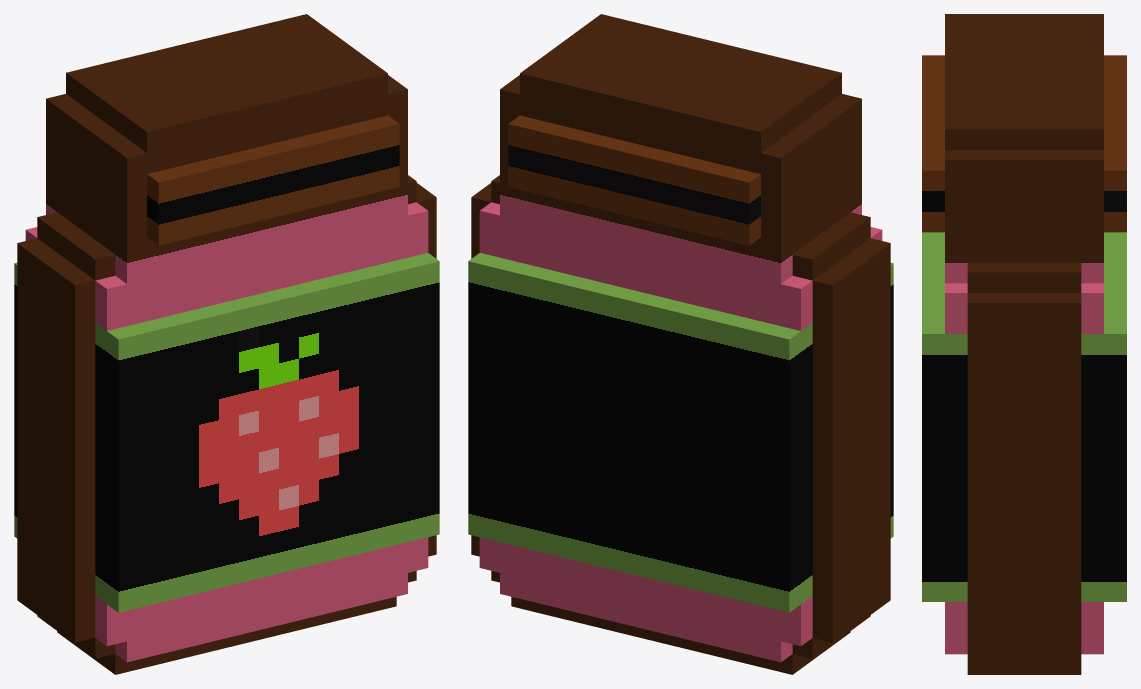
File: jam2.dae
3 renders of one model, left to right at view 1: azimuth 30°, elevation 25°; view 2: azimuth 150°, elevation 25°; view 3: azimuth 270°, elevation 25°, orthographic.
Visible parts, largest first — view 1: jam2; view 2: jam2; view 3: jam2.
Boxes of the visible parts, x1,y1,x2,y2 form: jam2: (14,14,439,674); jam2: (468,14,893,674); jam2: (922,14,1126,674).
Size of the model in its own units: 1.8 by 0.9 by 2.6.
Materials: 1 (1 with a texture image).
